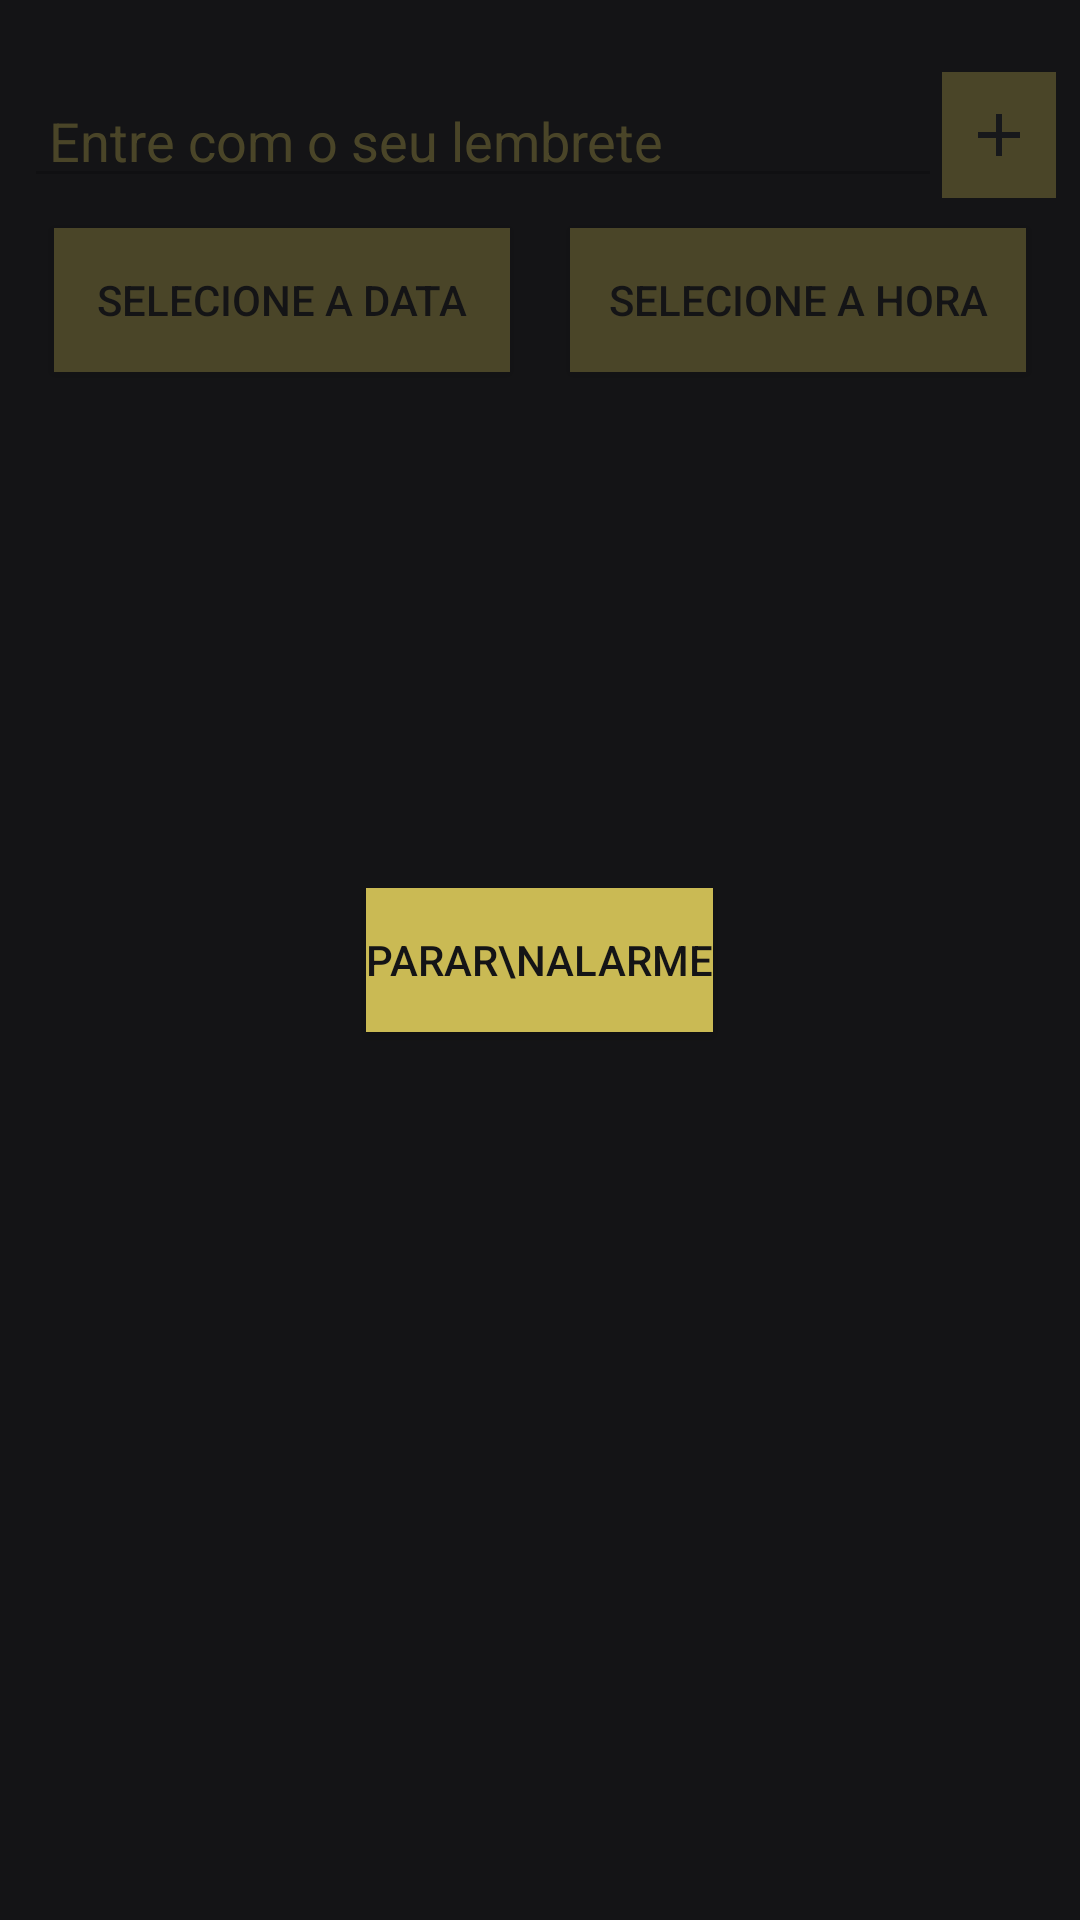

Icon bounding boxes for this 1080*1920 phone screenshot, format bbox=(x1, y1, x2, y2):
fuck adicionar: bbox=(942, 72, 1056, 198)
